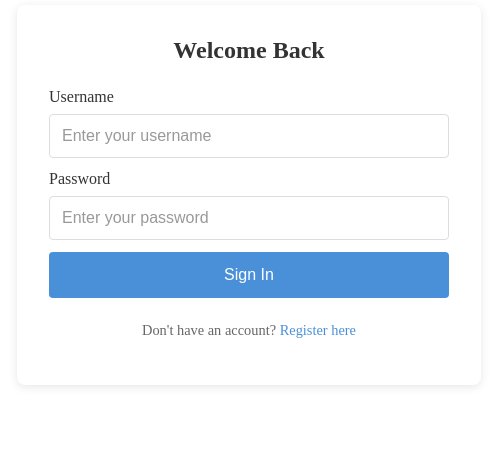
Scenario: LoginForm › Validation › shows error for empty password
Type "testuser" into the field labelled "Username".
click(249, 136); type("testuser")  # box top-left (49, 114), bottom-right (449, 158)
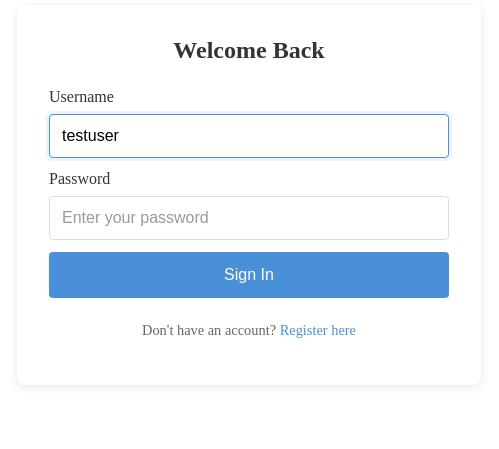
Click the button "Sign In".
click(249, 275)  # box top-left (49, 252), bottom-right (449, 298)
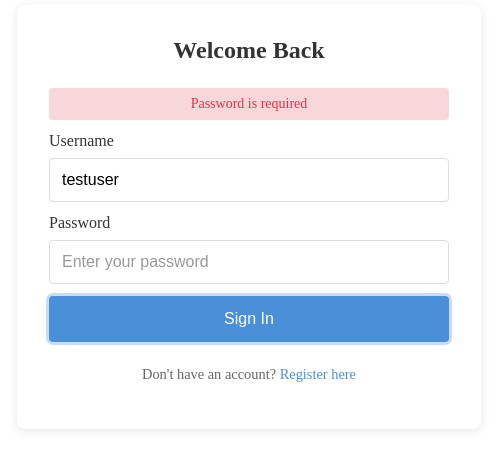
Expected: the text "Password is required" is shown, top-left (49, 88), bottom-right (449, 120)
